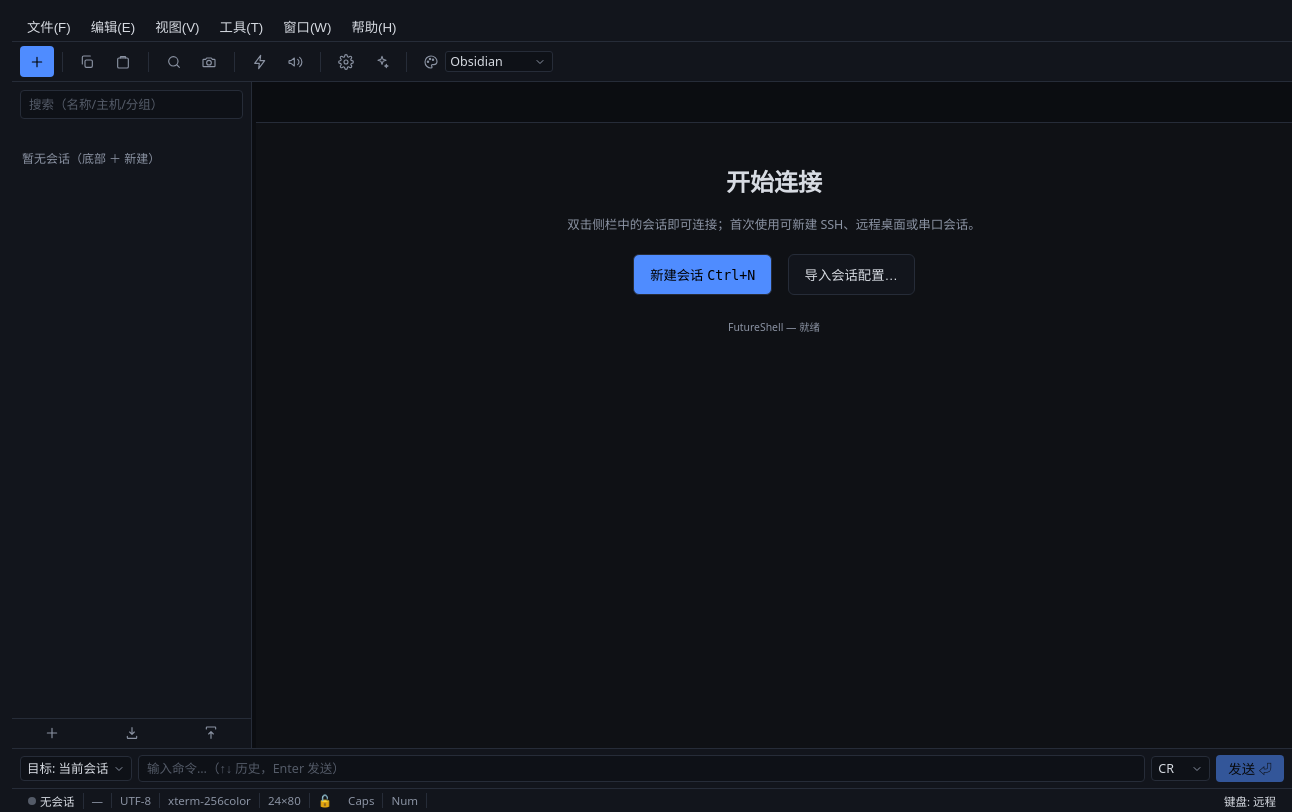
Test case: App 骨架：五条 chrome 都在，且视图开关真的开关它们 › 视图菜单「状态栏」切换即隐藏该栏
Expected: the message "无会话 — UTF-8 xterm-256color 24×80 🔓 Caps Num 键盘: 远程" is shown, [12,788,1291,811]
Click the menu item "视图(V)" at (177, 26), box [146,14,208,39]
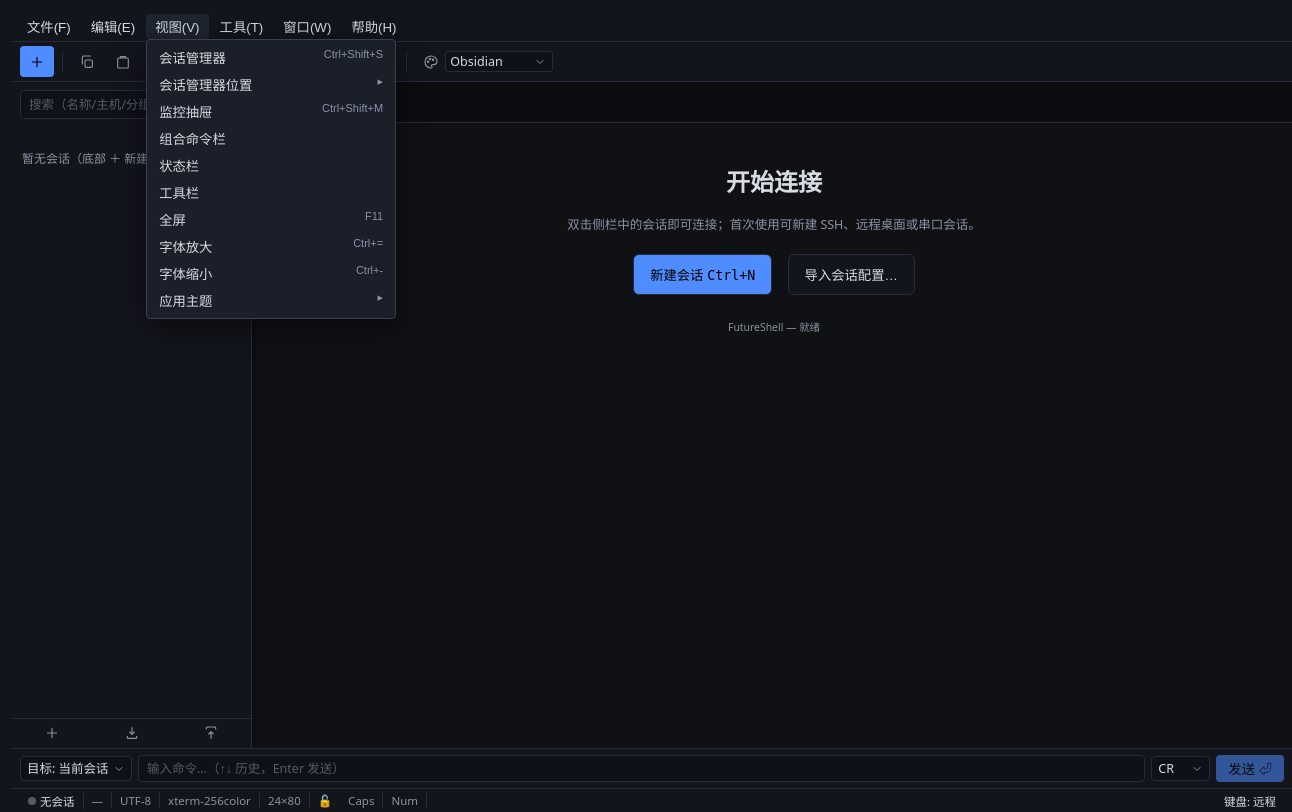
Expected: the menu item "状态栏" is shown
Click the menu item "状态栏" at (271, 166), box [151,152,391,179]
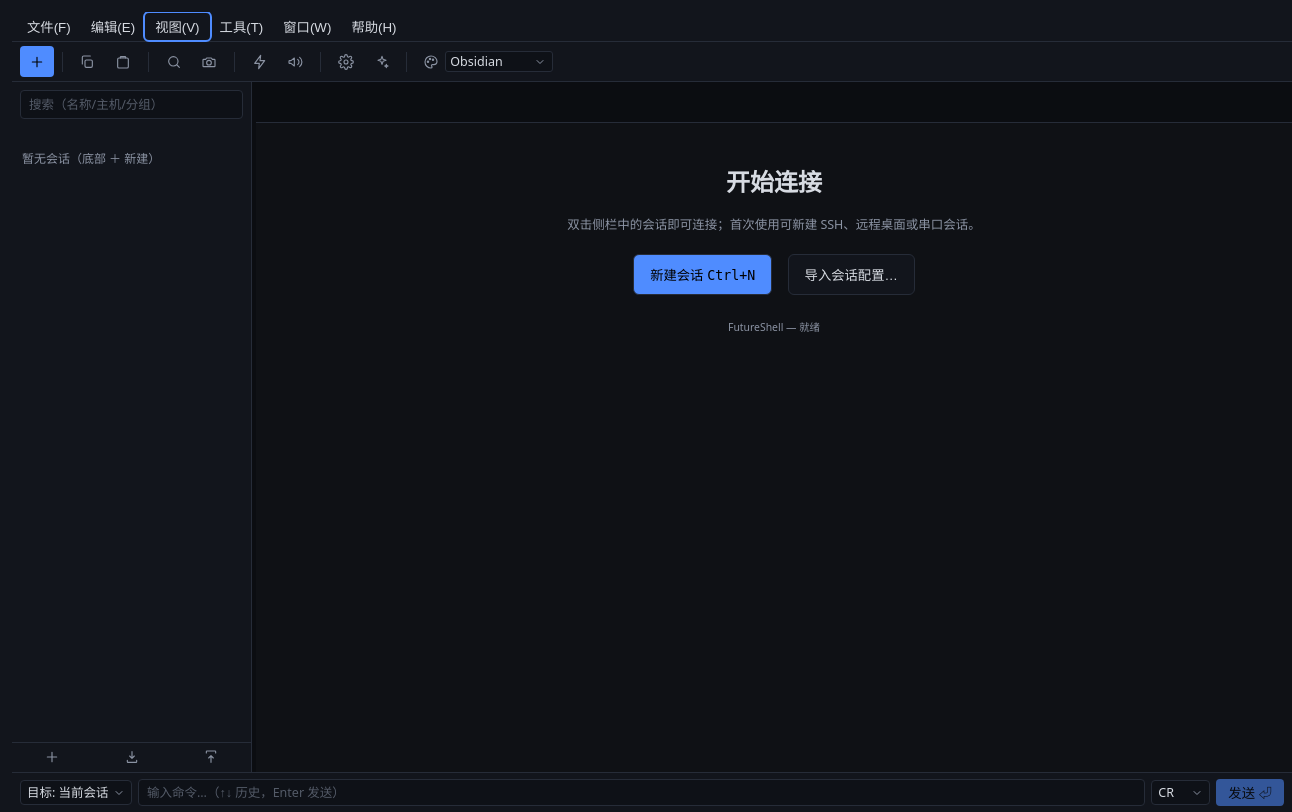
Expected: the message with test id "statusbar" is gone
